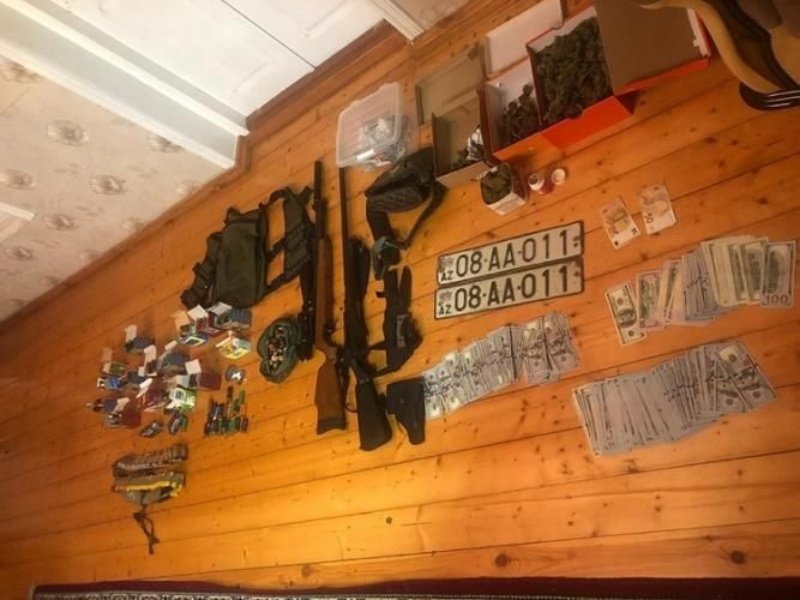cash: (572, 341, 777, 454), (604, 234, 795, 346), (421, 312, 579, 414), (599, 195, 640, 250), (640, 182, 676, 235)
plate: (437, 221, 585, 284), (436, 256, 583, 319)
weapon: (338, 166, 392, 451), (298, 161, 346, 435)
